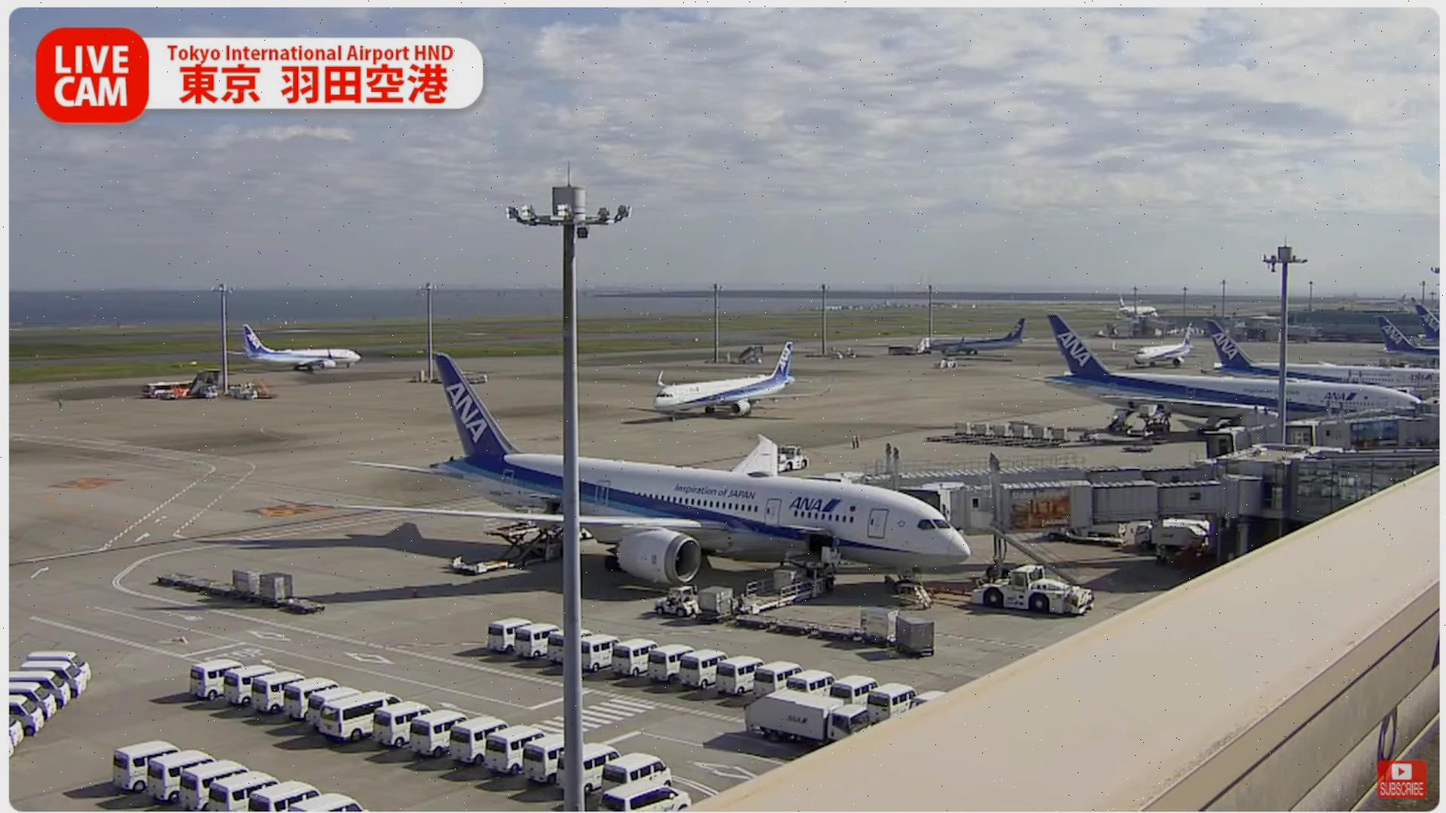APS: (969, 564, 1106, 619)
Aerobridge: (899, 476, 1264, 540), (843, 457, 1217, 496)
Airplane: (330, 354, 973, 599)
Dolly: (697, 588, 940, 661), (153, 561, 329, 620)
JCPL: (741, 546, 844, 607), (450, 522, 565, 575)
Tractor: (651, 580, 703, 620)
Window: (1290, 456, 1440, 523)
